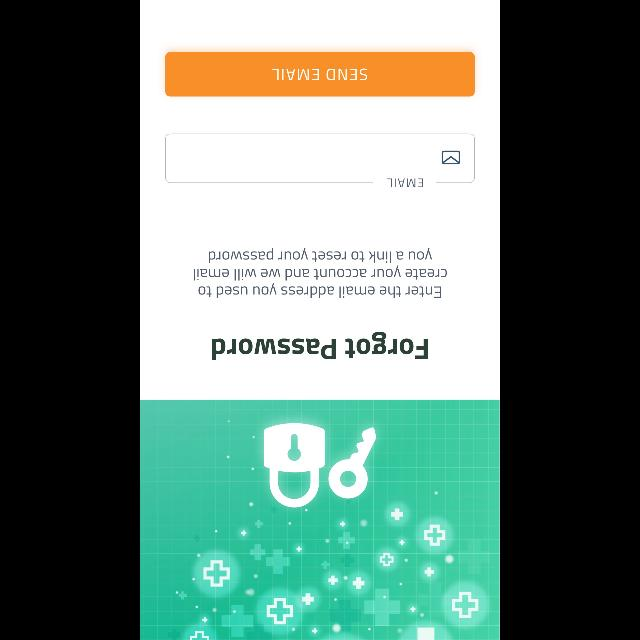icon: (442, 150, 461, 163)
image: (140, 400, 500, 640)
input: (166, 134, 474, 186)
text: (194, 248, 446, 298), (212, 332, 428, 360), (387, 179, 423, 187)
textbutton: (166, 52, 474, 96)
